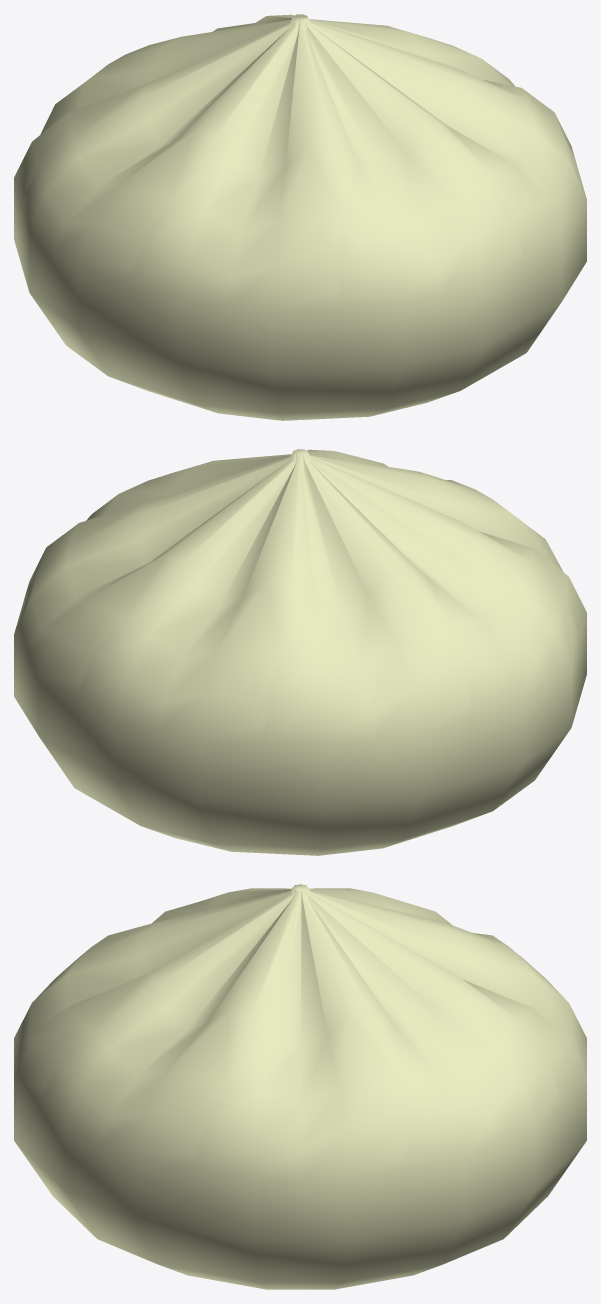
The model's file is nikuman.fbx.
The picture shows the model from 3 angles, top to bottom: view 1: azimuth 30°, elevation 25°; view 2: azimuth 150°, elevation 25°; view 3: azimuth 270°, elevation 25°; orthographic projection.
Visible parts, largest first — view 1: Cube; view 2: Cube; view 3: Cube.
Part boxes in pixels (x1,y1,x2,y2): Cube: (14, 14, 586, 420); Cube: (14, 449, 586, 855); Cube: (14, 884, 586, 1289).
Size of the model in its own units: 266 by 180 by 268.
